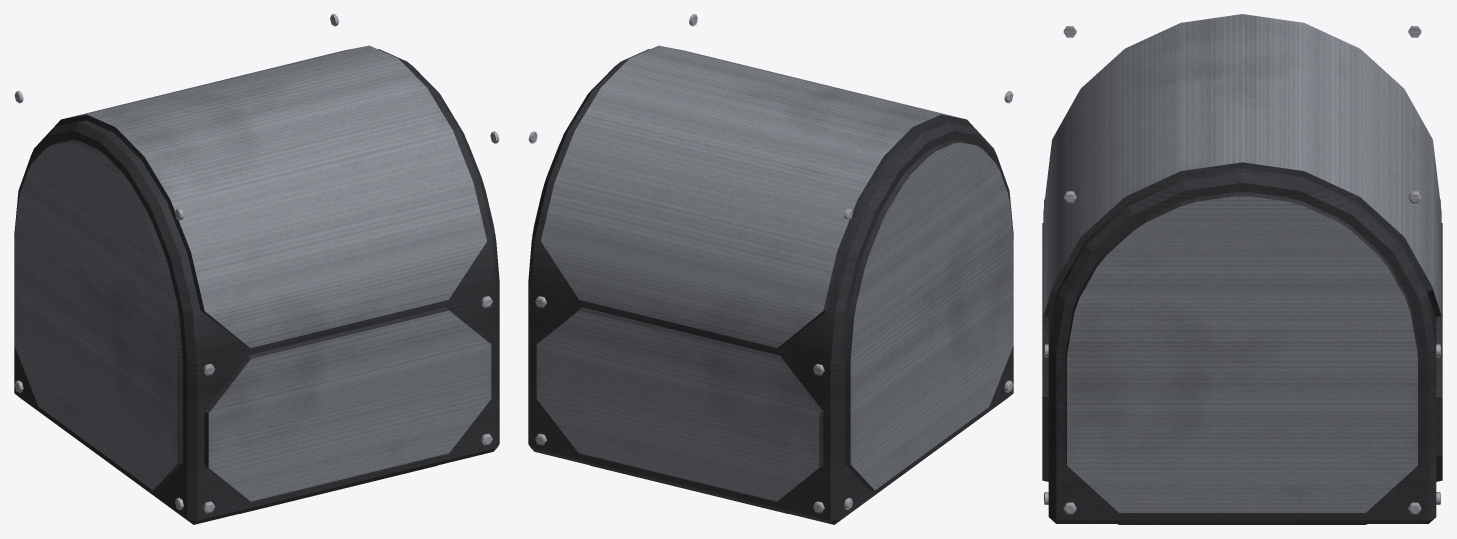
Rendered from R4B_RoundTop.glb.
3 views of the same model, side by side, from view 1: azimuth 30°, elevation 25°; view 2: azimuth 150°, elevation 25°; view 3: azimuth 270°, elevation 25° (orthographic). The views are drawn at different scales.
Visible parts, largest first — view 1: R4B_RoundTop; view 2: R4B_RoundTop; view 3: R4B_RoundTop.
Part boxes in pixels (left/top/right/bottom): R4B_RoundTop: left=14, top=14, right=499, bottom=524; R4B_RoundTop: left=528, top=14, right=1013, bottom=524; R4B_RoundTop: left=1042, top=14, right=1442, bottom=524.
Bounding box in the file's own units: 0.52 × 0.52 × 0.52.
Materials: 3 (3 with a texture image).
